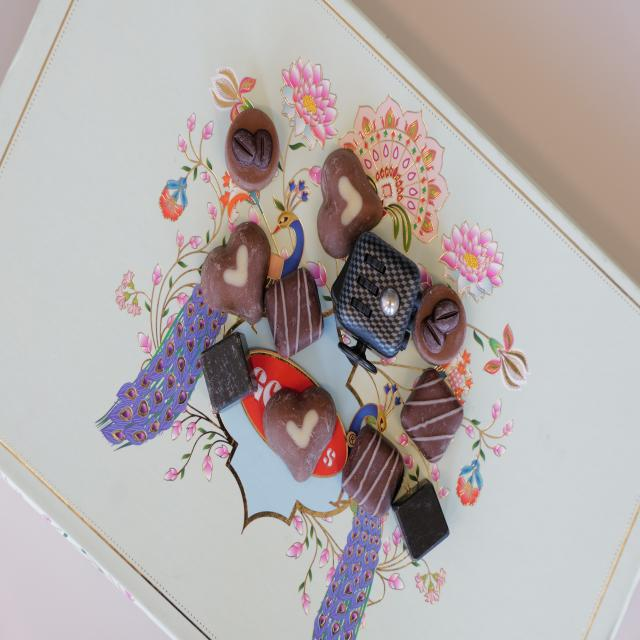Arabia: (225, 107, 280, 193), (414, 282, 468, 368)
Passion_au_lait: (318, 149, 384, 257), (201, 223, 272, 322), (265, 387, 336, 482)
Stracciatella: (402, 368, 464, 463), (343, 426, 405, 520), (264, 268, 326, 359)
